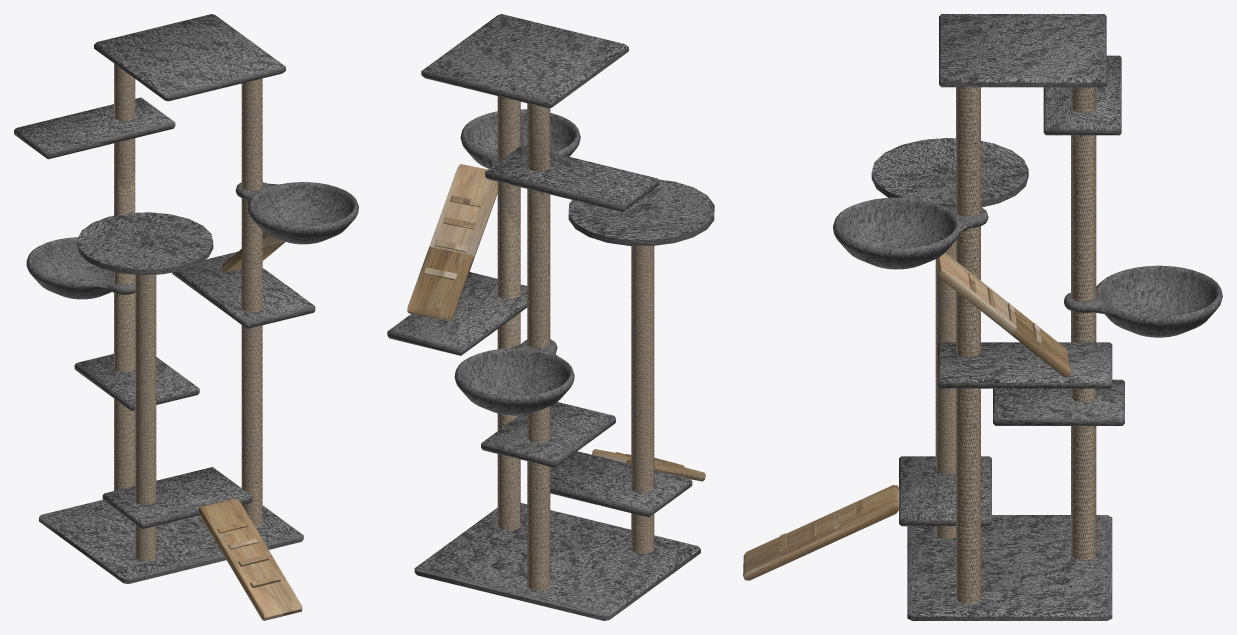
The model's file is CatTower4_Broken.fbx.
3 views of the same model, side by side, from view 1: azimuth 30°, elevation 25°; view 2: azimuth 150°, elevation 25°; view 3: azimuth 270°, elevation 25° (orthographic). The views are drawn at different scales.
Visible parts, largest first — view 1: CatTower4_Broken_Part_7, CatTower4_Broken_Part_8, CatTower4_Broken_Part_3, CatTower4_Broken_Part_14, CatTower4_Broken_Part_9, CatTower4_Broken_Part_6, CatTower4_Broken_Part_2, CatTower4_Broken_Part_10, CatTower4_Broken_Part_15, CatTower4_Broken_Part_11, CatTower4_Broken_Part_16, CatTower4_Broken_Part_4 (+4 smaller); view 2: CatTower4_Broken_Part_7, CatTower4_Broken_Part_6, CatTower4_Broken_Part_3, CatTower4_Broken_Part_8, CatTower4_Broken_Part_15, CatTower4_Broken_Part_11, CatTower4_Broken_Part_2, CatTower4_Broken_Part_10, CatTower4_Broken_Part_14, CatTower4_Broken_Part_4, CatTower4_Broken_Part_5, CatTower4_Broken_Part_16 (+5 smaller); view 3: CatTower4_Broken_Part_7, CatTower4_Broken_Part_3, CatTower4_Broken_Part_8, CatTower4_Broken_Part_6, CatTower4_Broken_Part_15, CatTower4_Broken_Part_14, CatTower4_Broken_Part_11, CatTower4_Broken_Part_2, CatTower4_Broken_Part_9, CatTower4_Broken_Part_4, CatTower4_Broken_Part_10, CatTower4_Broken_Part_1 (+5 smaller).
Boxes of the visible parts, left/top/right/bottom form: CatTower4_Broken_Part_7: left=14, top=14, right=285, bottom=143; CatTower4_Broken_Part_8: left=21, top=139, right=314, bottom=275; CatTower4_Broken_Part_3: left=59, top=510, right=303, bottom=583; CatTower4_Broken_Part_14: left=241, top=226, right=262, bottom=526; CatTower4_Broken_Part_9: left=198, top=498, right=302, bottom=620; CatTower4_Broken_Part_6: left=172, top=238, right=315, bottom=328; CatTower4_Broken_Part_2: left=235, top=182, right=358, bottom=244; CatTower4_Broken_Part_10: left=102, top=467, right=252, bottom=529; CatTower4_Broken_Part_15: left=114, top=143, right=135, bottom=490; CatTower4_Broken_Part_11: left=26, top=237, right=135, bottom=299; CatTower4_Broken_Part_16: left=135, top=274, right=156, bottom=414; CatTower4_Broken_Part_4: left=74, top=354, right=199, bottom=410; CatTower4_Broken_Part_7: left=421, top=14, right=638, bottom=211; CatTower4_Broken_Part_6: left=387, top=224, right=527, bottom=355; CatTower4_Broken_Part_3: left=472, top=503, right=700, bottom=603; CatTower4_Broken_Part_8: left=553, top=117, right=714, bottom=245; CatTower4_Broken_Part_15: left=527, top=189, right=550, bottom=590; CatTower4_Broken_Part_11: left=454, top=339, right=574, bottom=415; CatTower4_Broken_Part_2: left=437, top=109, right=563, bottom=236; CatTower4_Broken_Part_10: left=550, top=451, right=692, bottom=517; CatTower4_Broken_Part_14: left=497, top=182, right=520, bottom=530; CatTower4_Broken_Part_4: left=481, top=402, right=615, bottom=467; CatTower4_Broken_Part_5: left=473, top=566, right=631, bottom=620; CatTower4_Broken_Part_16: left=631, top=246, right=654, bottom=394; CatTower4_Broken_Part_7: left=939, top=14, right=1121, bottom=135; CatTower4_Broken_Part_3: left=907, top=515, right=1059, bottom=620; CatTower4_Broken_Part_8: left=838, top=138, right=1028, bottom=234; CatTower4_Broken_Part_6: left=938, top=292, right=1112, bottom=388; CatTower4_Broken_Part_15: left=1071, top=135, right=1096, bottom=560; CatTower4_Broken_Part_14: left=956, top=228, right=980, bottom=604; CatTower4_Broken_Part_11: left=1064, top=265, right=1222, bottom=337; CatTower4_Broken_Part_2: left=833, top=204, right=996, bottom=318; CatTower4_Broken_Part_9: left=743, top=485, right=899, bottom=580; CatTower4_Broken_Part_4: left=993, top=379, right=1124, bottom=425; CatTower4_Broken_Part_10: left=899, top=456, right=991, bottom=526; CatTower4_Broken_Part_1: left=984, top=573, right=1112, bottom=620.
Size of the model in its own units: 386 by 713 by 574.
